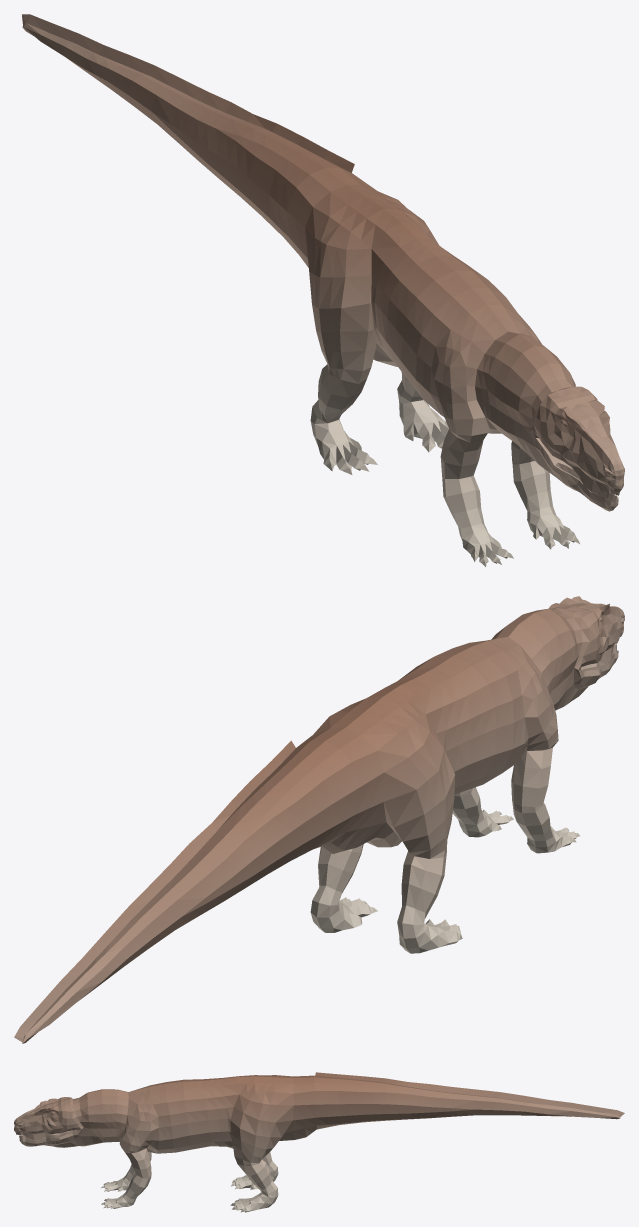
The model's file is postosuchus.glb.
The picture shows the model from 3 angles, top to bottom: view 1: azimuth 30°, elevation 25°; view 2: azimuth 150°, elevation 25°; view 3: azimuth 270°, elevation 25°; orthographic projection. The views are drawn at different scales.
Visible parts, largest first — view 1: postosuchus.obj; view 2: postosuchus.obj; view 3: postosuchus.obj.
Boxes of the visible parts, x1,y1,x2,y2 form: postosuchus.obj: (22, 14, 624, 566); postosuchus.obj: (14, 596, 624, 1043); postosuchus.obj: (14, 1072, 624, 1212).
Size of the model in its own units: 1.54 by 2.62 by 12.
